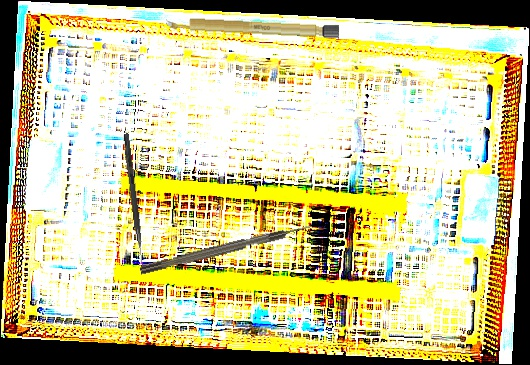Hook Surgical: (138, 222, 314, 275), (121, 133, 148, 270)
Scalpel Handle: (165, 15, 340, 39)
